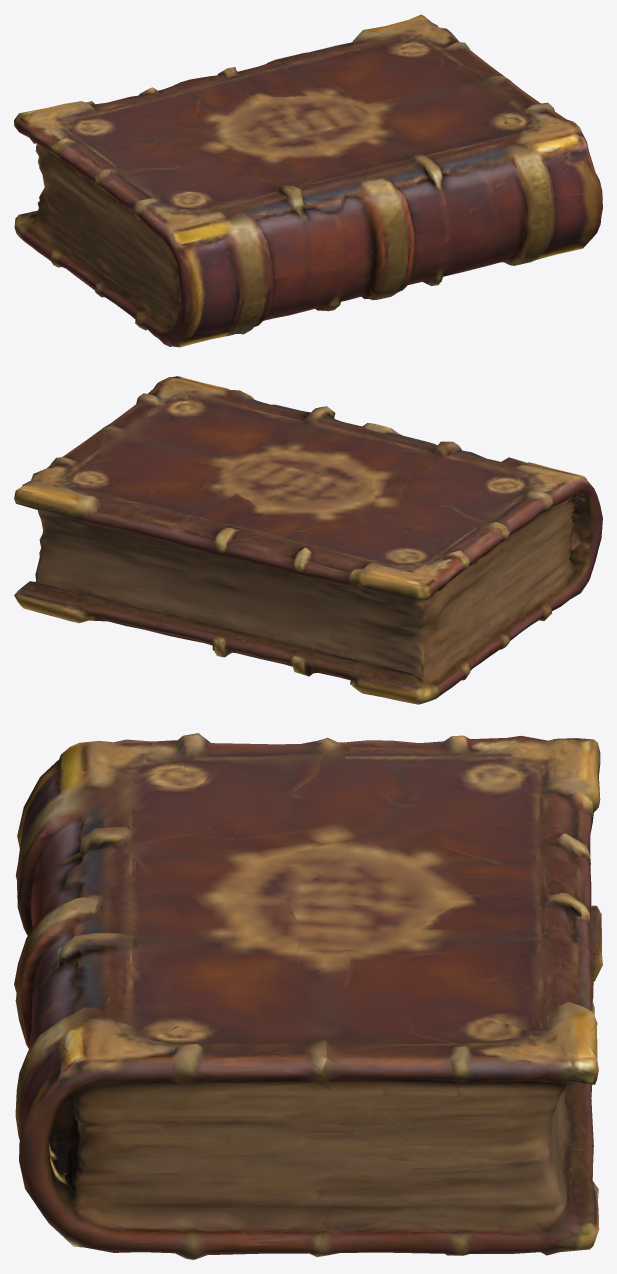
The model's file is book.obj.
The picture shows the model from 3 angles, top to bottom: view 1: azimuth 30°, elevation 25°; view 2: azimuth 150°, elevation 25°; view 3: azimuth 270°, elevation 25°; orthographic projection. The views are drawn at different scales.
Parts seen in each view (by area): view 1: A_very_old_book_with_0922013742_texture; view 2: A_very_old_book_with_0922013742_texture; view 3: A_very_old_book_with_0922013742_texture.
Part boxes in pixels (box(x1,y1,x2,y2)): A_very_old_book_with_0922013742_texture: box(14, 14, 602, 347); A_very_old_book_with_0922013742_texture: box(14, 376, 602, 704); A_very_old_book_with_0922013742_texture: box(14, 733, 602, 1259).
Bounding box in the file's own units: 2 × 0.589 × 1.5.
